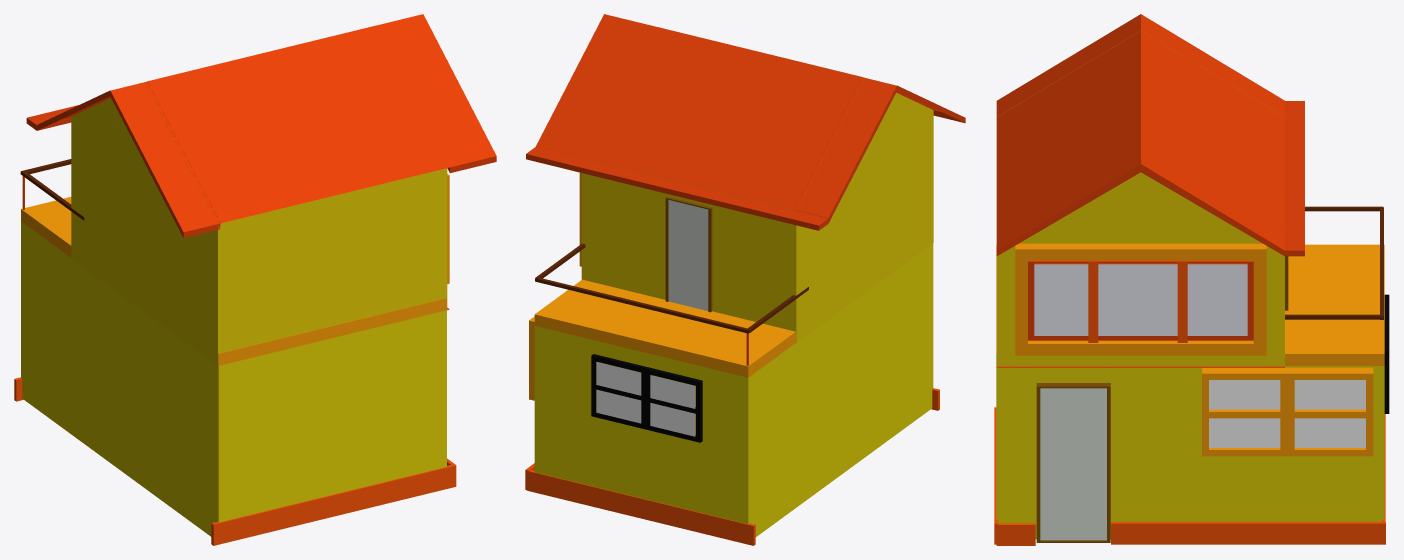
File: rumah1.fbx
3 views of the same model, side by side, from view 1: azimuth 30°, elevation 25°; view 2: azimuth 150°, elevation 25°; view 3: azimuth 270°, elevation 25° (orthographic). The views are drawn at different scales.
Parts seen in each view (by area): view 1: Cube.003; view 2: Cube.003; view 3: Cube.003.
Boxes of the visible parts, box(x1,y1,x2,y2) form: Cube.003: box(14, 14, 496, 545); Cube.003: box(525, 14, 965, 545); Cube.003: box(994, 14, 1389, 545).
Size of the model in its own units: 548 by 684 by 610.
